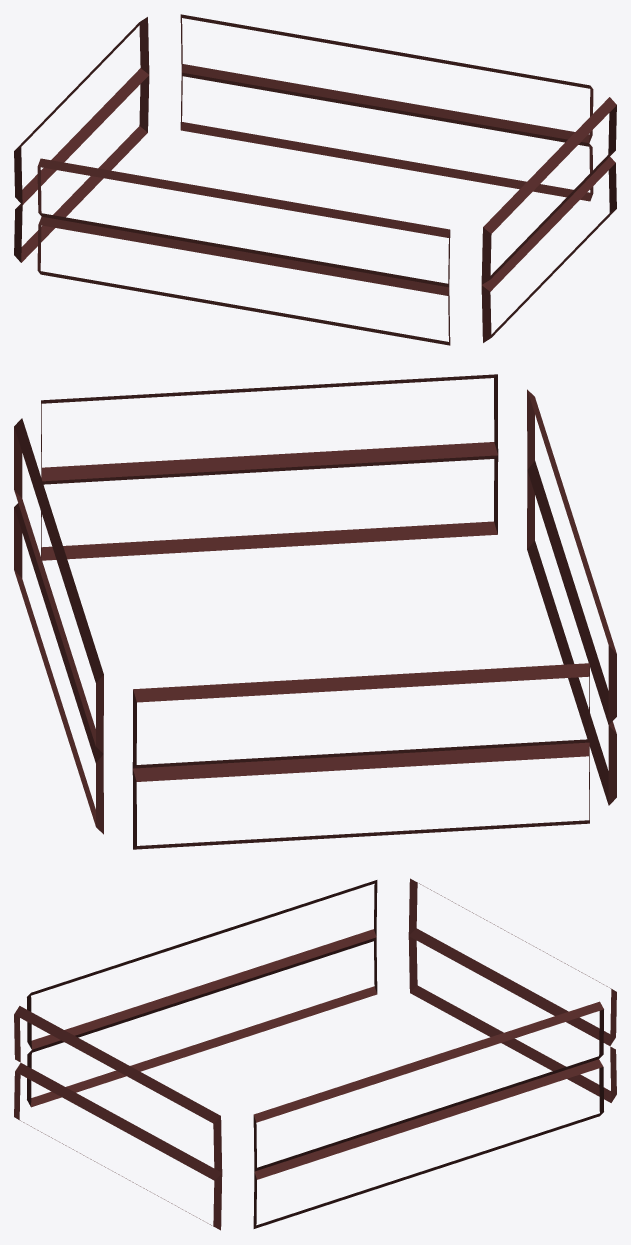
File: n2_chest_bottom_dark_brown_0_lev2.002.glb
3 renders of one model, top to bottom at view 1: azimuth 30°, elevation 25°; view 2: azimuth 150°, elevation 25°; view 3: azimuth 270°, elevation 25°, orthographic. The views are drawn at different scales.
Parts seen in each view (by area): view 1: n2_chest_bottom_dark_brown_0_lev2.002; view 2: n2_chest_bottom_dark_brown_0_lev2.002; view 3: n2_chest_bottom_dark_brown_0_lev2.002.
Boxes of the visible parts, <box> form: n2_chest_bottom_dark_brown_0_lev2.002: <box>14,14,616,345</box>; n2_chest_bottom_dark_brown_0_lev2.002: <box>14,374,616,849</box>; n2_chest_bottom_dark_brown_0_lev2.002: <box>14,878,616,1230</box>.
Bounding box in the file's own units: 1.82 × 0.4042 × 1.92.
